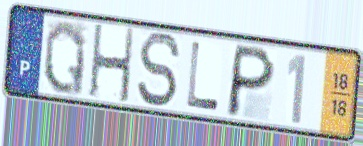1: (286, 52, 308, 126)
H: (87, 22, 136, 106)
L: (185, 39, 221, 113)
P: (223, 42, 278, 120)
Q: (42, 18, 88, 99)
S: (135, 30, 183, 110)
